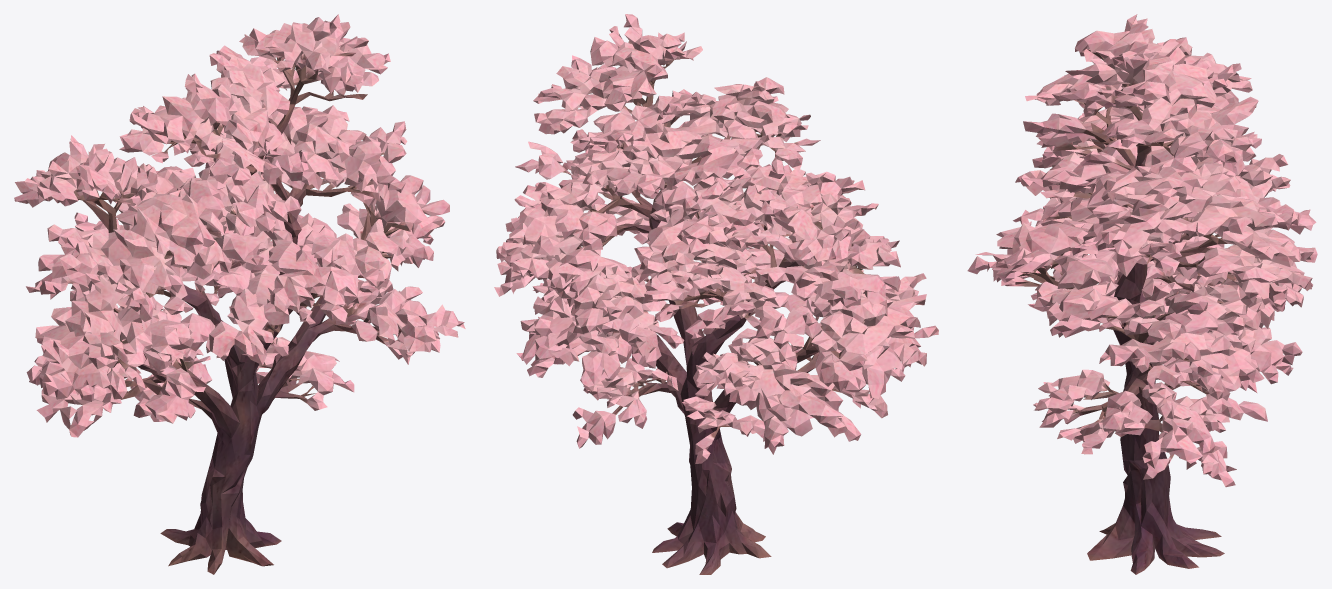
The picture shows the model from 3 angles, left to right: view 1: azimuth 30°, elevation 25°; view 2: azimuth 150°, elevation 25°; view 3: azimuth 270°, elevation 25°; orthographic projection. The views are drawn at different scales.
Parts seen in each view (by area): view 1: model; view 2: model; view 3: model.
Part boxes in pixels (x1,y1,x2,y2): model: [14, 14, 465, 574]; model: [494, 14, 938, 574]; model: [967, 14, 1317, 574].
Size of the model in its own units: 1.6 by 1.9 by 1.11.
1 material, 1 textured.
